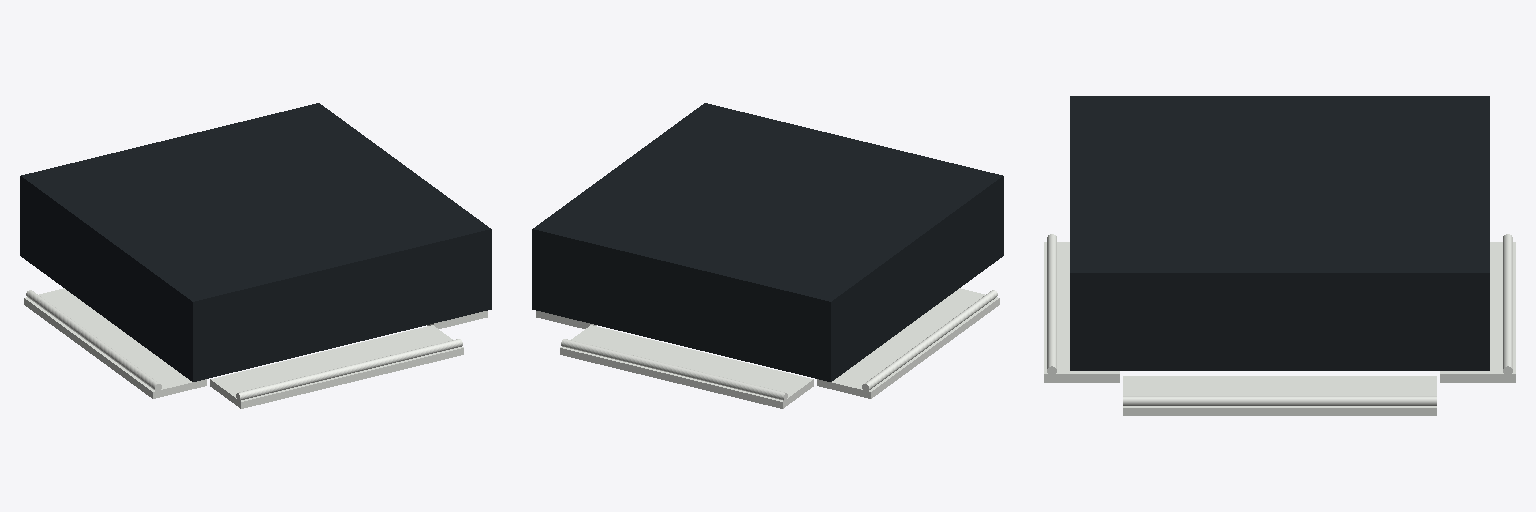
URDF robot description (cassette_air_conditioner):
<robot name="cassette_air_conditioner">
  <material name="panel_white">
    <color rgba="0.93 0.94 0.92 1" />
    </material>
  <material name="panel_shadow">
    <color rgba="0.73 0.76 0.77 1" />
    </material>
  <material name="grille_grey">
    <color rgba="0.66 0.69 0.71 1" />
    </material>
  <material name="cavity_dark">
    <color rgba="0.17 0.19 0.21 1" />
    </material>
  <material name="dial_grey">
    <color rgba="0.8 0.82 0.83 1" />
    </material>
  <material name="dial_mark">
    <color rgba="0.23 0.28 0.31 1" />
    </material>
  <link name="panel">
    <visual name="fascia">
      <geometry>
        <mesh filename="assets/meshes/cassette_panel.obj" />
        </geometry>
      <material name="panel_white" />
      </visual>
    <visual name="plenum">
      <origin xyz="0 0 0.13" rpy="0 0 0" />
      <geometry>
        <box size="0.66 0.66 0.17" />
        </geometry>
      <material name="cavity_dark" />
      </visual>
    <visual name="grille_face">
      <origin xyz="0 0 0.004" rpy="0 0 0" />
      <geometry>
        <mesh filename="assets/meshes/cassette_center_grille.obj" />
        </geometry>
      <material name="grille_grey" />
      </visual>
    <visual name="mount_frame">
      <origin xyz="0 0 0.013" rpy="0 0 0" />
      <geometry>
        <box size="0.432 0.432 0.006" />
        </geometry>
      <material name="grille_grey" />
      </visual>
    <collision name="fascia">
      <geometry>
        <mesh filename="assets/meshes/cassette_panel.obj" />
        </geometry>
      </collision>
    <collision name="plenum">
      <origin xyz="0 0 0.13" rpy="0 0 0" />
      <geometry>
        <box size="0.66 0.66 0.17" />
        </geometry>
      </collision>
    <collision name="grille_face">
      <origin xyz="0 0 0.004" rpy="0 0 0" />
      <geometry>
        <mesh filename="assets/meshes/cassette_center_grille.obj" />
        </geometry>
      </collision>
    <collision name="mount_frame">
      <origin xyz="0 0 0.013" rpy="0 0 0" />
      <geometry>
        <box size="0.432 0.432 0.006" />
        </geometry>
      </collision>
    </link>
  <link name="flap_0">
    <visual name="barrel">
      <origin xyz="0 0 0" rpy="0 1.5708 0" />
      <geometry>
        <cylinder radius="0.008" length="0.492" />
        </geometry>
      <material name="panel_white" />
      </visual>
    <visual name="blade">
      <origin xyz="0 -0.0475 -0.0135" rpy="0 0 0" />
      <geometry>
        <box size="0.492 0.119 0.015" />
        </geometry>
      <material name="panel_white" />
      </visual>
    <visual name="rib_0">
      <origin xyz="-0.16728 -0.02618 -0.0115" rpy="0 0 0" />
      <geometry>
        <box size="0.04 0.03808 0.00975" />
        </geometry>
      <material name="panel_shadow" />
      </visual>
    <visual name="rib_1">
      <origin xyz="0.16728 -0.02618 -0.0115" rpy="0 0 0" />
      <geometry>
        <box size="0.04 0.03808 0.00975" />
        </geometry>
      <material name="panel_shadow" />
      </visual>
    <collision name="barrel">
      <origin xyz="0 0 0" rpy="0 1.5708 0" />
      <geometry>
        <cylinder radius="0.008" length="0.492" />
        </geometry>
      </collision>
    <collision name="blade">
      <origin xyz="0 -0.0475 -0.0135" rpy="0 0 0" />
      <geometry>
        <box size="0.492 0.119 0.015" />
        </geometry>
      </collision>
    <collision name="rib_0">
      <origin xyz="-0.16728 -0.02618 -0.0115" rpy="0 0 0" />
      <geometry>
        <box size="0.04 0.03808 0.00975" />
        </geometry>
      </collision>
    <collision name="rib_1">
      <origin xyz="0.16728 -0.02618 -0.0115" rpy="0 0 0" />
      <geometry>
        <box size="0.04 0.03808 0.00975" />
        </geometry>
      </collision>
    </link>
  <link name="flap_1">
    <visual name="barrel">
      <origin xyz="0 0 0" rpy="-1.5708 0 0" />
      <geometry>
        <cylinder radius="0.008" length="0.492" />
        </geometry>
      <material name="panel_white" />
      </visual>
    <visual name="blade">
      <origin xyz="-0.0475 0 -0.0135" rpy="0 0 0" />
      <geometry>
        <box size="0.119 0.492 0.015" />
        </geometry>
      <material name="panel_white" />
      </visual>
    <visual name="rib_0">
      <origin xyz="-0.02618 -0.16728 -0.0115" rpy="0 0 0" />
      <geometry>
        <box size="0.03808 0.04 0.00975" />
        </geometry>
      <material name="panel_shadow" />
      </visual>
    <visual name="rib_1">
      <origin xyz="-0.02618 0.16728 -0.0115" rpy="0 0 0" />
      <geometry>
        <box size="0.03808 0.04 0.00975" />
        </geometry>
      <material name="panel_shadow" />
      </visual>
    <collision name="barrel">
      <origin xyz="0 0 0" rpy="-1.5708 0 0" />
      <geometry>
        <cylinder radius="0.008" length="0.492" />
        </geometry>
      </collision>
    <collision name="blade">
      <origin xyz="-0.0475 0 -0.0135" rpy="0 0 0" />
      <geometry>
        <box size="0.119 0.492 0.015" />
        </geometry>
      </collision>
    <collision name="rib_0">
      <origin xyz="-0.02618 -0.16728 -0.0115" rpy="0 0 0" />
      <geometry>
        <box size="0.03808 0.04 0.00975" />
        </geometry>
      </collision>
    <collision name="rib_1">
      <origin xyz="-0.02618 0.16728 -0.0115" rpy="0 0 0" />
      <geometry>
        <box size="0.03808 0.04 0.00975" />
        </geometry>
      </collision>
    </link>
  <link name="flap_2">
    <visual name="barrel">
      <origin xyz="0 0 0" rpy="0 1.5708 0" />
      <geometry>
        <cylinder radius="0.008" length="0.492" />
        </geometry>
      <material name="panel_white" />
      </visual>
    <visual name="blade">
      <origin xyz="0 0.0475 -0.0135" rpy="0 0 0" />
      <geometry>
        <box size="0.492 0.119 0.015" />
        </geometry>
      <material name="panel_white" />
      </visual>
    <visual name="rib_0">
      <origin xyz="-0.16728 0.02618 -0.0115" rpy="0 0 0" />
      <geometry>
        <box size="0.04 0.03808 0.00975" />
        </geometry>
      <material name="panel_shadow" />
      </visual>
    <visual name="rib_1">
      <origin xyz="0.16728 0.02618 -0.0115" rpy="0 0 0" />
      <geometry>
        <box size="0.04 0.03808 0.00975" />
        </geometry>
      <material name="panel_shadow" />
      </visual>
    <collision name="barrel">
      <origin xyz="0 0 0" rpy="0 1.5708 0" />
      <geometry>
        <cylinder radius="0.008" length="0.492" />
        </geometry>
      </collision>
    <collision name="blade">
      <origin xyz="0 0.0475 -0.0135" rpy="0 0 0" />
      <geometry>
        <box size="0.492 0.119 0.015" />
        </geometry>
      </collision>
    <collision name="rib_0">
      <origin xyz="-0.16728 0.02618 -0.0115" rpy="0 0 0" />
      <geometry>
        <box size="0.04 0.03808 0.00975" />
        </geometry>
      </collision>
    <collision name="rib_1">
      <origin xyz="0.16728 0.02618 -0.0115" rpy="0 0 0" />
      <geometry>
        <box size="0.04 0.03808 0.00975" />
        </geometry>
      </collision>
    </link>
  <link name="flap_3">
    <visual name="barrel">
      <origin xyz="0 0 0" rpy="-1.5708 0 0" />
      <geometry>
        <cylinder radius="0.008" length="0.492" />
        </geometry>
      <material name="panel_white" />
      </visual>
    <visual name="blade">
      <origin xyz="0.0475 0 -0.0135" rpy="0 0 0" />
      <geometry>
        <box size="0.119 0.492 0.015" />
        </geometry>
      <material name="panel_white" />
      </visual>
    <visual name="rib_0">
      <origin xyz="0.02618 -0.16728 -0.0115" rpy="0 0 0" />
      <geometry>
        <box size="0.03808 0.04 0.00975" />
        </geometry>
      <material name="panel_shadow" />
      </visual>
    <visual name="rib_1">
      <origin xyz="0.02618 0.16728 -0.0115" rpy="0 0 0" />
      <geometry>
        <box size="0.03808 0.04 0.00975" />
        </geometry>
      <material name="panel_shadow" />
      </visual>
    <collision name="barrel">
      <origin xyz="0 0 0" rpy="-1.5708 0 0" />
      <geometry>
        <cylinder radius="0.008" length="0.492" />
        </geometry>
      </collision>
    <collision name="blade">
      <origin xyz="0.0475 0 -0.0135" rpy="0 0 0" />
      <geometry>
        <box size="0.119 0.492 0.015" />
        </geometry>
      </collision>
    <collision name="rib_0">
      <origin xyz="0.02618 -0.16728 -0.0115" rpy="0 0 0" />
      <geometry>
        <box size="0.03808 0.04 0.00975" />
        </geometry>
      </collision>
    <collision name="rib_1">
      <origin xyz="0.02618 0.16728 -0.0115" rpy="0 0 0" />
      <geometry>
        <box size="0.03808 0.04 0.00975" />
        </geometry>
      </collision>
    </link>
  <link name="selector_dial">
    <visual name="dial_body">
      <origin xyz="0 0 0" rpy="3.14159 0 0" />
      <geometry>
        <mesh filename="assets/meshes/cassette_selector_dial.obj" />
        </geometry>
      <material name="dial_grey" />
      </visual>
    <collision name="dial_body">
      <origin xyz="0 0 0" rpy="3.14159 0 0" />
      <geometry>
        <mesh filename="assets/meshes/cassette_selector_dial.obj" />
        </geometry>
      </collision>
    </link>
  <joint name="panel_to_flap_0" type="revolute">
    <origin xyz="0 0.358 0.006" rpy="0 0 0" />
    <parent link="panel" />
    <child link="flap_0" />
    <axis xyz="1 0 0" />
    <limit effort="2.5" velocity="1.2" lower="0" upper="1.1" />
    </joint>
  <joint name="panel_to_flap_1" type="revolute">
    <origin xyz="0.358 0 0.006" rpy="0 0 0" />
    <parent link="panel" />
    <child link="flap_1" />
    <axis xyz="0 -1 0" />
    <limit effort="2.5" velocity="1.2" lower="0" upper="1.1" />
    </joint>
  <joint name="panel_to_flap_2" type="revolute">
    <origin xyz="0 -0.358 0.006" rpy="0 0 0" />
    <parent link="panel" />
    <child link="flap_2" />
    <axis xyz="-1 0 0" />
    <limit effort="2.5" velocity="1.2" lower="0" upper="1.1" />
    </joint>
  <joint name="panel_to_flap_3" type="revolute">
    <origin xyz="-0.358 0 0.006" rpy="0 0 0" />
    <parent link="panel" />
    <child link="flap_3" />
    <axis xyz="0 1 0" />
    <limit effort="2.5" velocity="1.2" lower="0" upper="1.1" />
    </joint>
  <joint name="panel_to_selector_dial" type="continuous">
    <origin xyz="0.357 0.357 0" rpy="0 0 0" />
    <parent link="panel" />
    <child link="selector_dial" />
    <axis xyz="0 0 -1" />
    <limit effort="0.15" velocity="5" />
    </joint>
  </robot>

--- Render facts (derived) ---
The picture shows the robot from 3 angles, left to right: view 1: azimuth 30°, elevation 25°; view 2: azimuth 150°, elevation 25°; view 3: azimuth 270°, elevation 25°; orthographic projection.
Robot: cassette_air_conditioner — 6 links, 5 joints (4 revolute, 1 continuous); root link panel; default pose: all joints at 0.
Visible links, largest first — view 1: panel, flap_2, flap_3; view 2: panel, flap_0, flap_3; view 3: panel, flap_1, flap_0, flap_2.
Boxes of the visible links, x1=… form: panel: x1=20, y1=103, x2=491, y2=381; flap_2: x1=210, y1=325, x2=463, y2=408; flap_3: x1=24, y1=288, x2=206, y2=398; panel: x1=532, y1=103, x2=1003, y2=381; flap_0: x1=560, y1=325, x2=813, y2=408; flap_3: x1=817, y1=288, x2=999, y2=398; panel: x1=1070, y1=96, x2=1489, y2=370; flap_1: x1=1123, y1=376, x2=1436, y2=415; flap_0: x1=1440, y1=234, x2=1515, y2=382; flap_2: x1=1044, y1=234, x2=1119, y2=382.
Bounding box of the posed robot: 0.74 × 0.74 × 0.23 m (x, y, z).
Meshes: 3 distinct files referenced, 0 mesh visuals loaded (none loaded); not drawn: 3 (reference not matched to a file when rendering).
